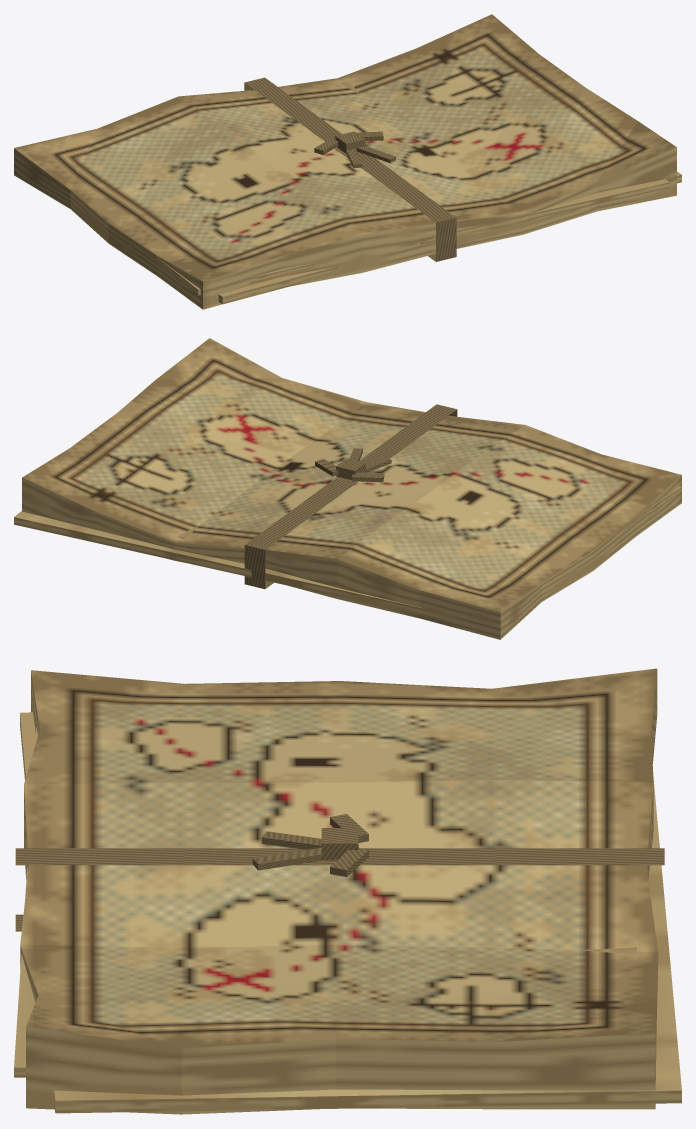
File: SM_Map.fbx
3 views of the same model, one above another, from view 1: azimuth 30°, elevation 25°; view 2: azimuth 150°, elevation 25°; view 3: azimuth 270°, elevation 25° (orthographic). The views are drawn at different scales.
Parts seen in each view (by area): view 1: SM_Map; view 2: SM_Map; view 3: SM_Map.
Boxes of the visible parts, bbox=[...] form: SM_Map: bbox=[14, 14, 681, 309]; SM_Map: bbox=[14, 338, 681, 639]; SM_Map: bbox=[14, 668, 681, 1114].
Bounding box in the file's own units: 0.3086 × 0.0319 × 0.2151.
1 material, 1 textured.
